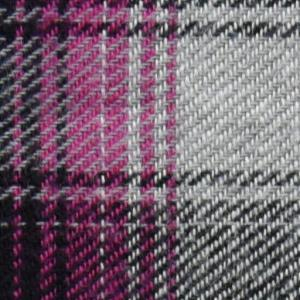Damage: (20, 12, 79, 43)
